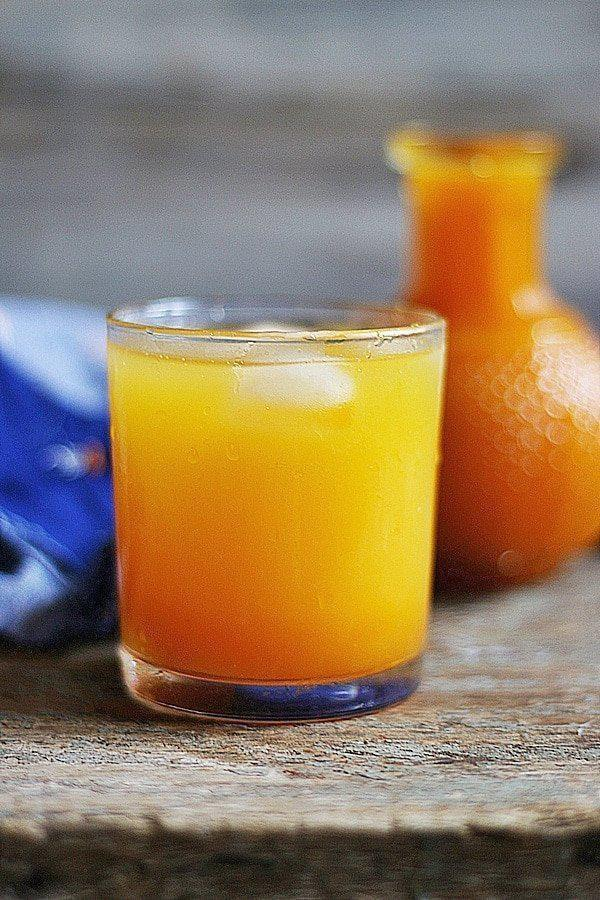glass-normal: (100, 292, 451, 723)
